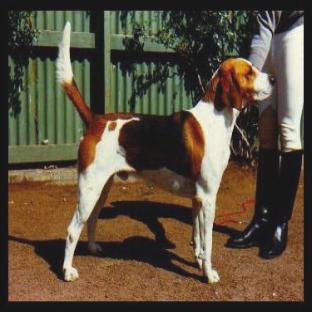Animal: (57, 21, 273, 282)
